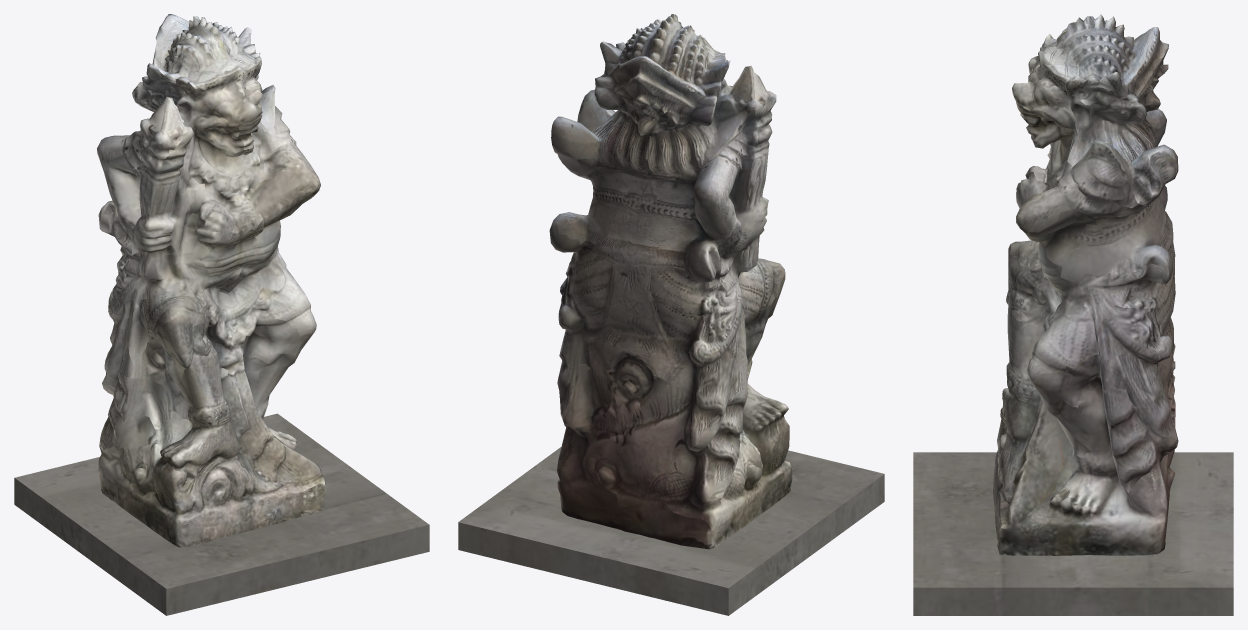
The model's file is dwarapala-low.glb.
3 views of the same model, side by side, from view 1: azimuth 30°, elevation 25°; view 2: azimuth 150°, elevation 25°; view 3: azimuth 270°, elevation 25° (orthographic). The views are drawn at different scales.
Visible parts, largest first — view 1: poly.001, Cube; view 2: poly.001, Cube; view 3: poly.001, Cube.
Boxes of the visible parts, x1,y1,x2,y2 form: poly.001: (97, 14, 326, 547); Cube: (14, 413, 429, 615); poly.001: (530, 14, 792, 549); Cube: (458, 447, 884, 615); poly.001: (993, 14, 1193, 560); Cube: (913, 452, 1233, 615).
Bounding box in the file's own units: 0.5468 × 1 × 0.5468.
Materials: 2 (2 with a texture image).
